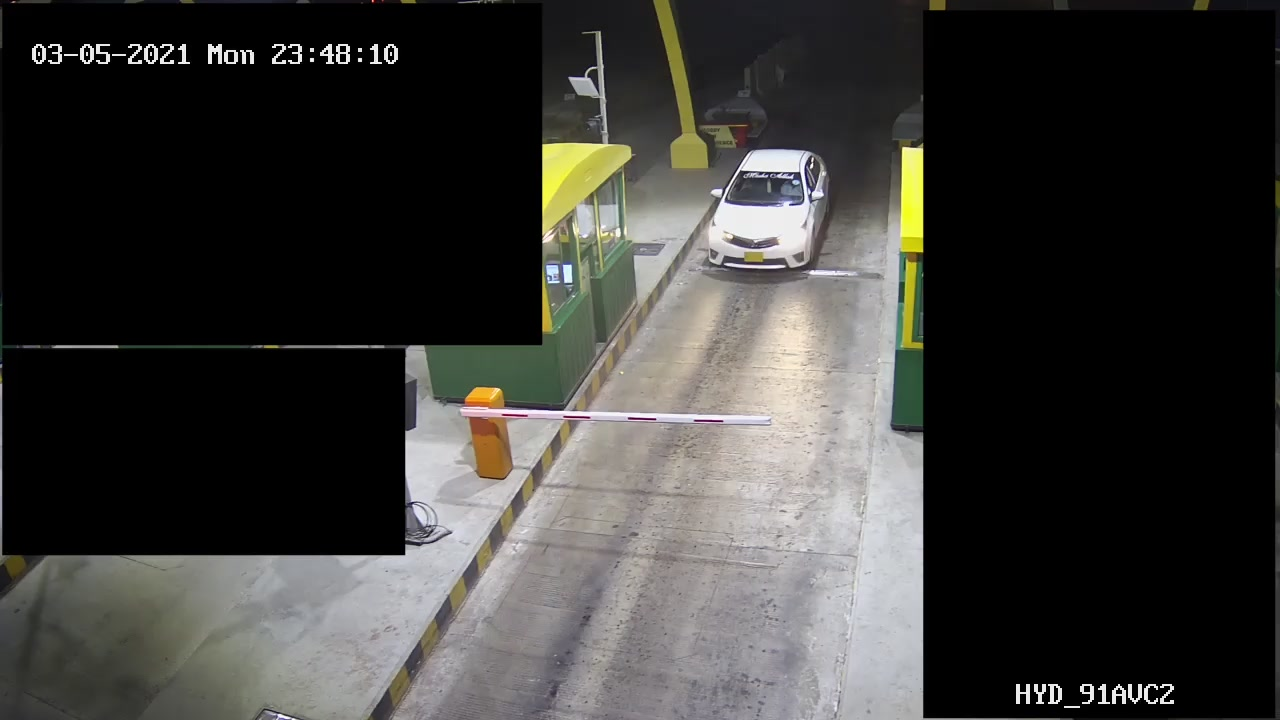F1: (696, 146, 845, 282)
